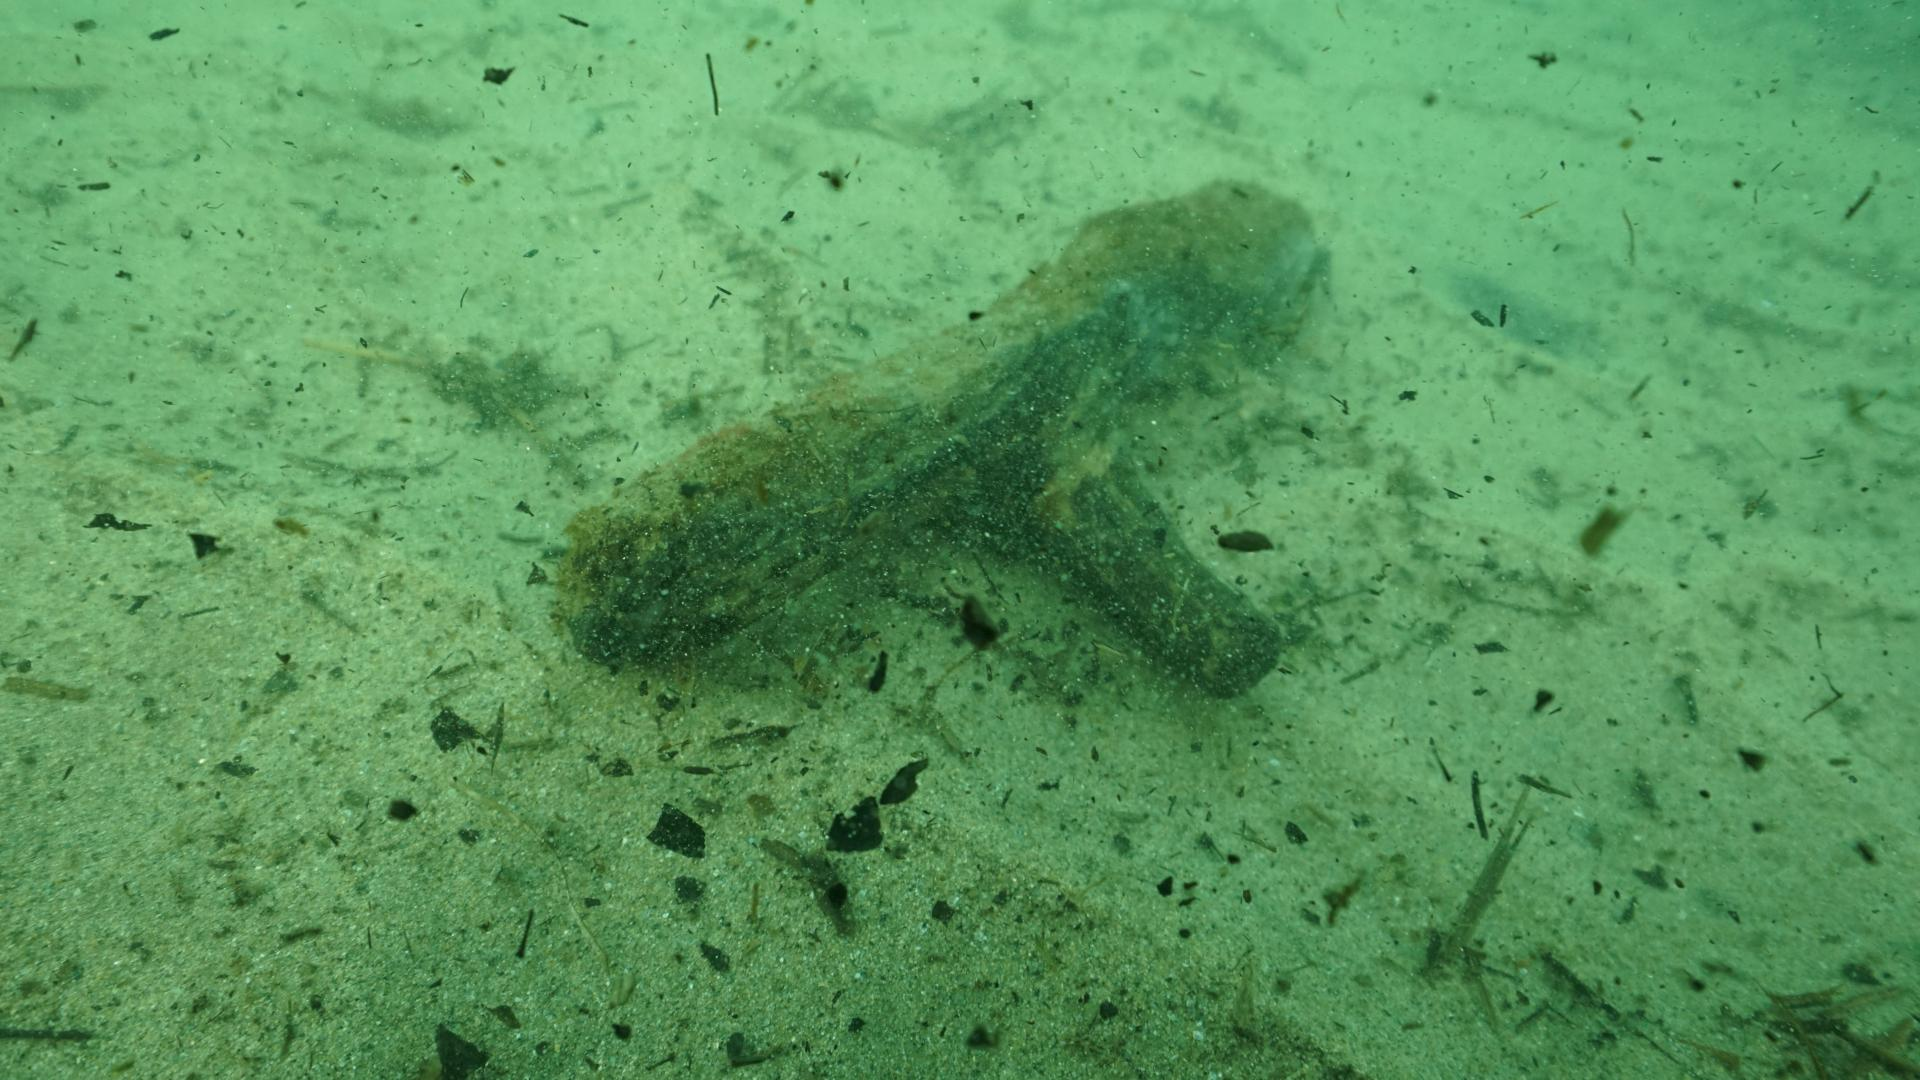wood: (555, 177, 1320, 696)
